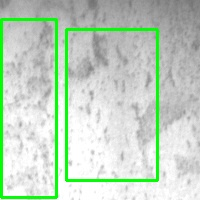pitted_surface: (66, 29, 157, 180), (1, 19, 56, 197)
